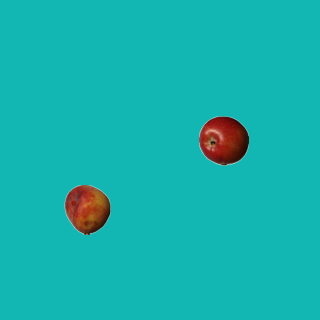Apple Braeburn: (198, 115, 248, 165)
Peach: (62, 184, 112, 234)
